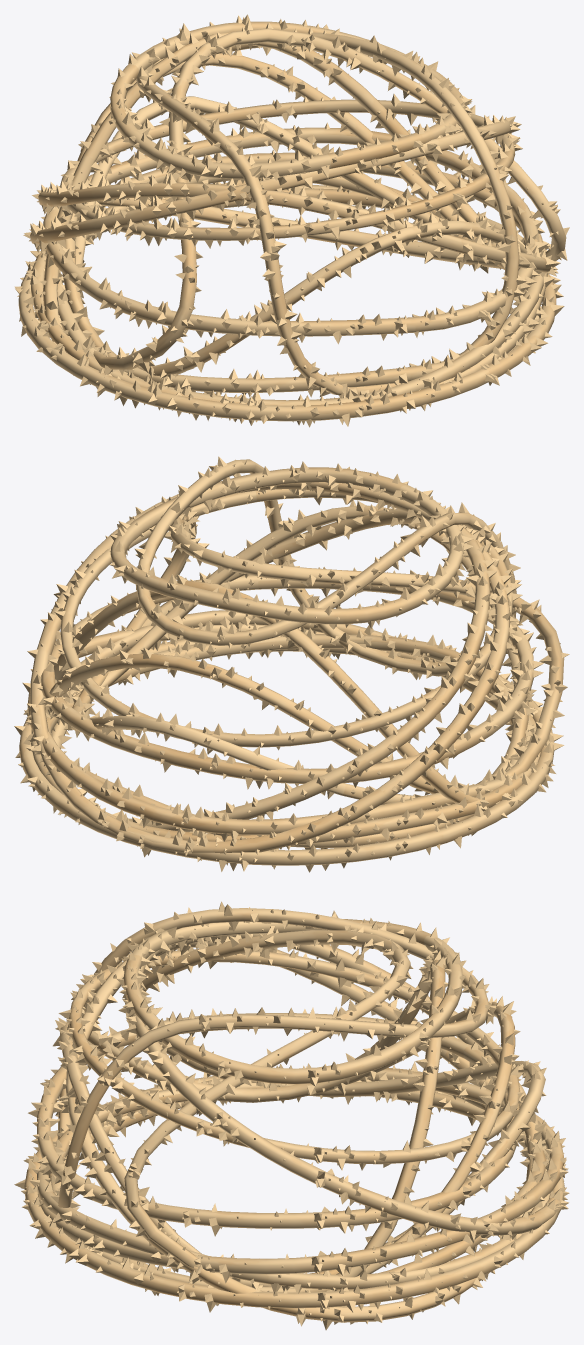
File: spikes.fbx
3 views of the same model, one above another, from view 1: azimuth 30°, elevation 25°; view 2: azimuth 150°, elevation 25°; view 3: azimuth 270°, elevation 25° (orthographic).
Visible parts, largest first — view 1: spikes; view 2: spikes; view 3: spikes.
Part boxes in pixels (x1,y1,x2,y2): spikes: [14, 14, 569, 427]; spikes: [14, 456, 569, 872]; spikes: [14, 901, 569, 1330].
Bounding box in the file's own units: 2024 × 1135 × 2031.
